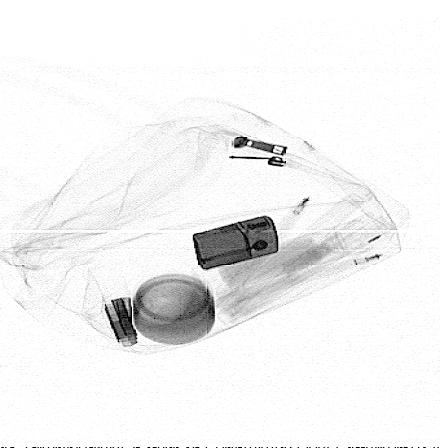Lighter: (192, 215, 279, 270)
